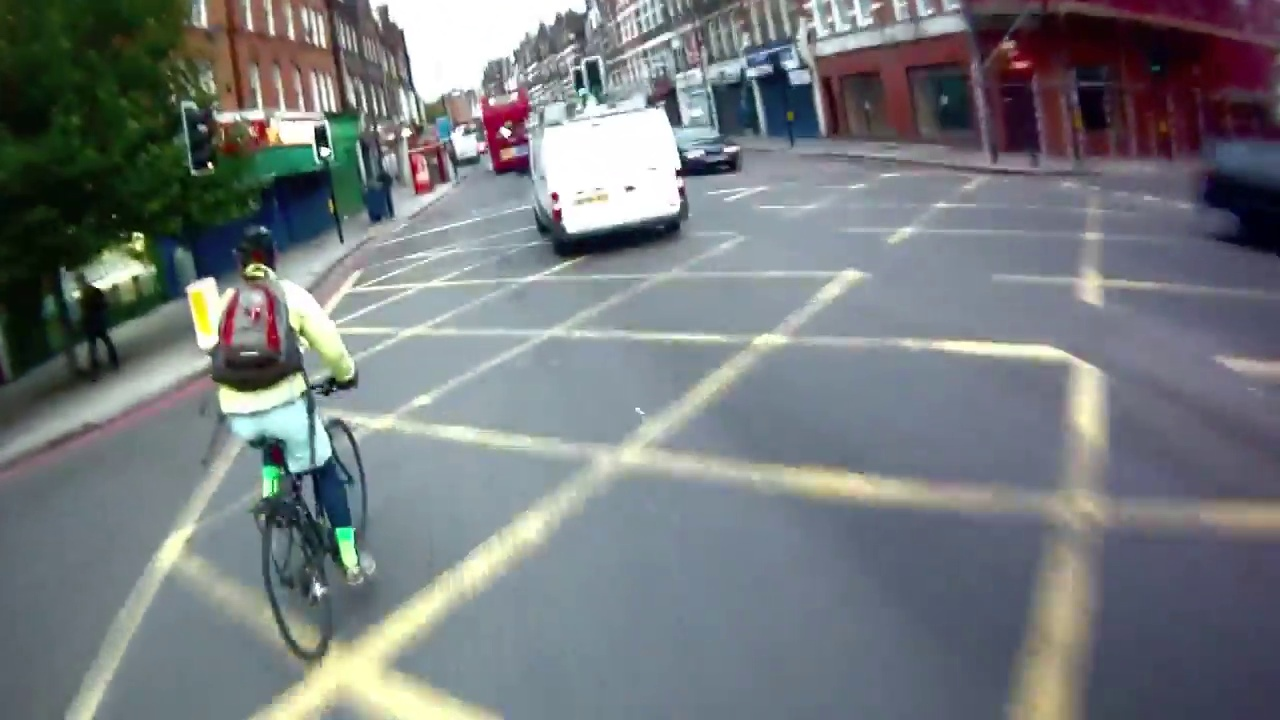cyclist_back: (218, 225, 389, 675)
